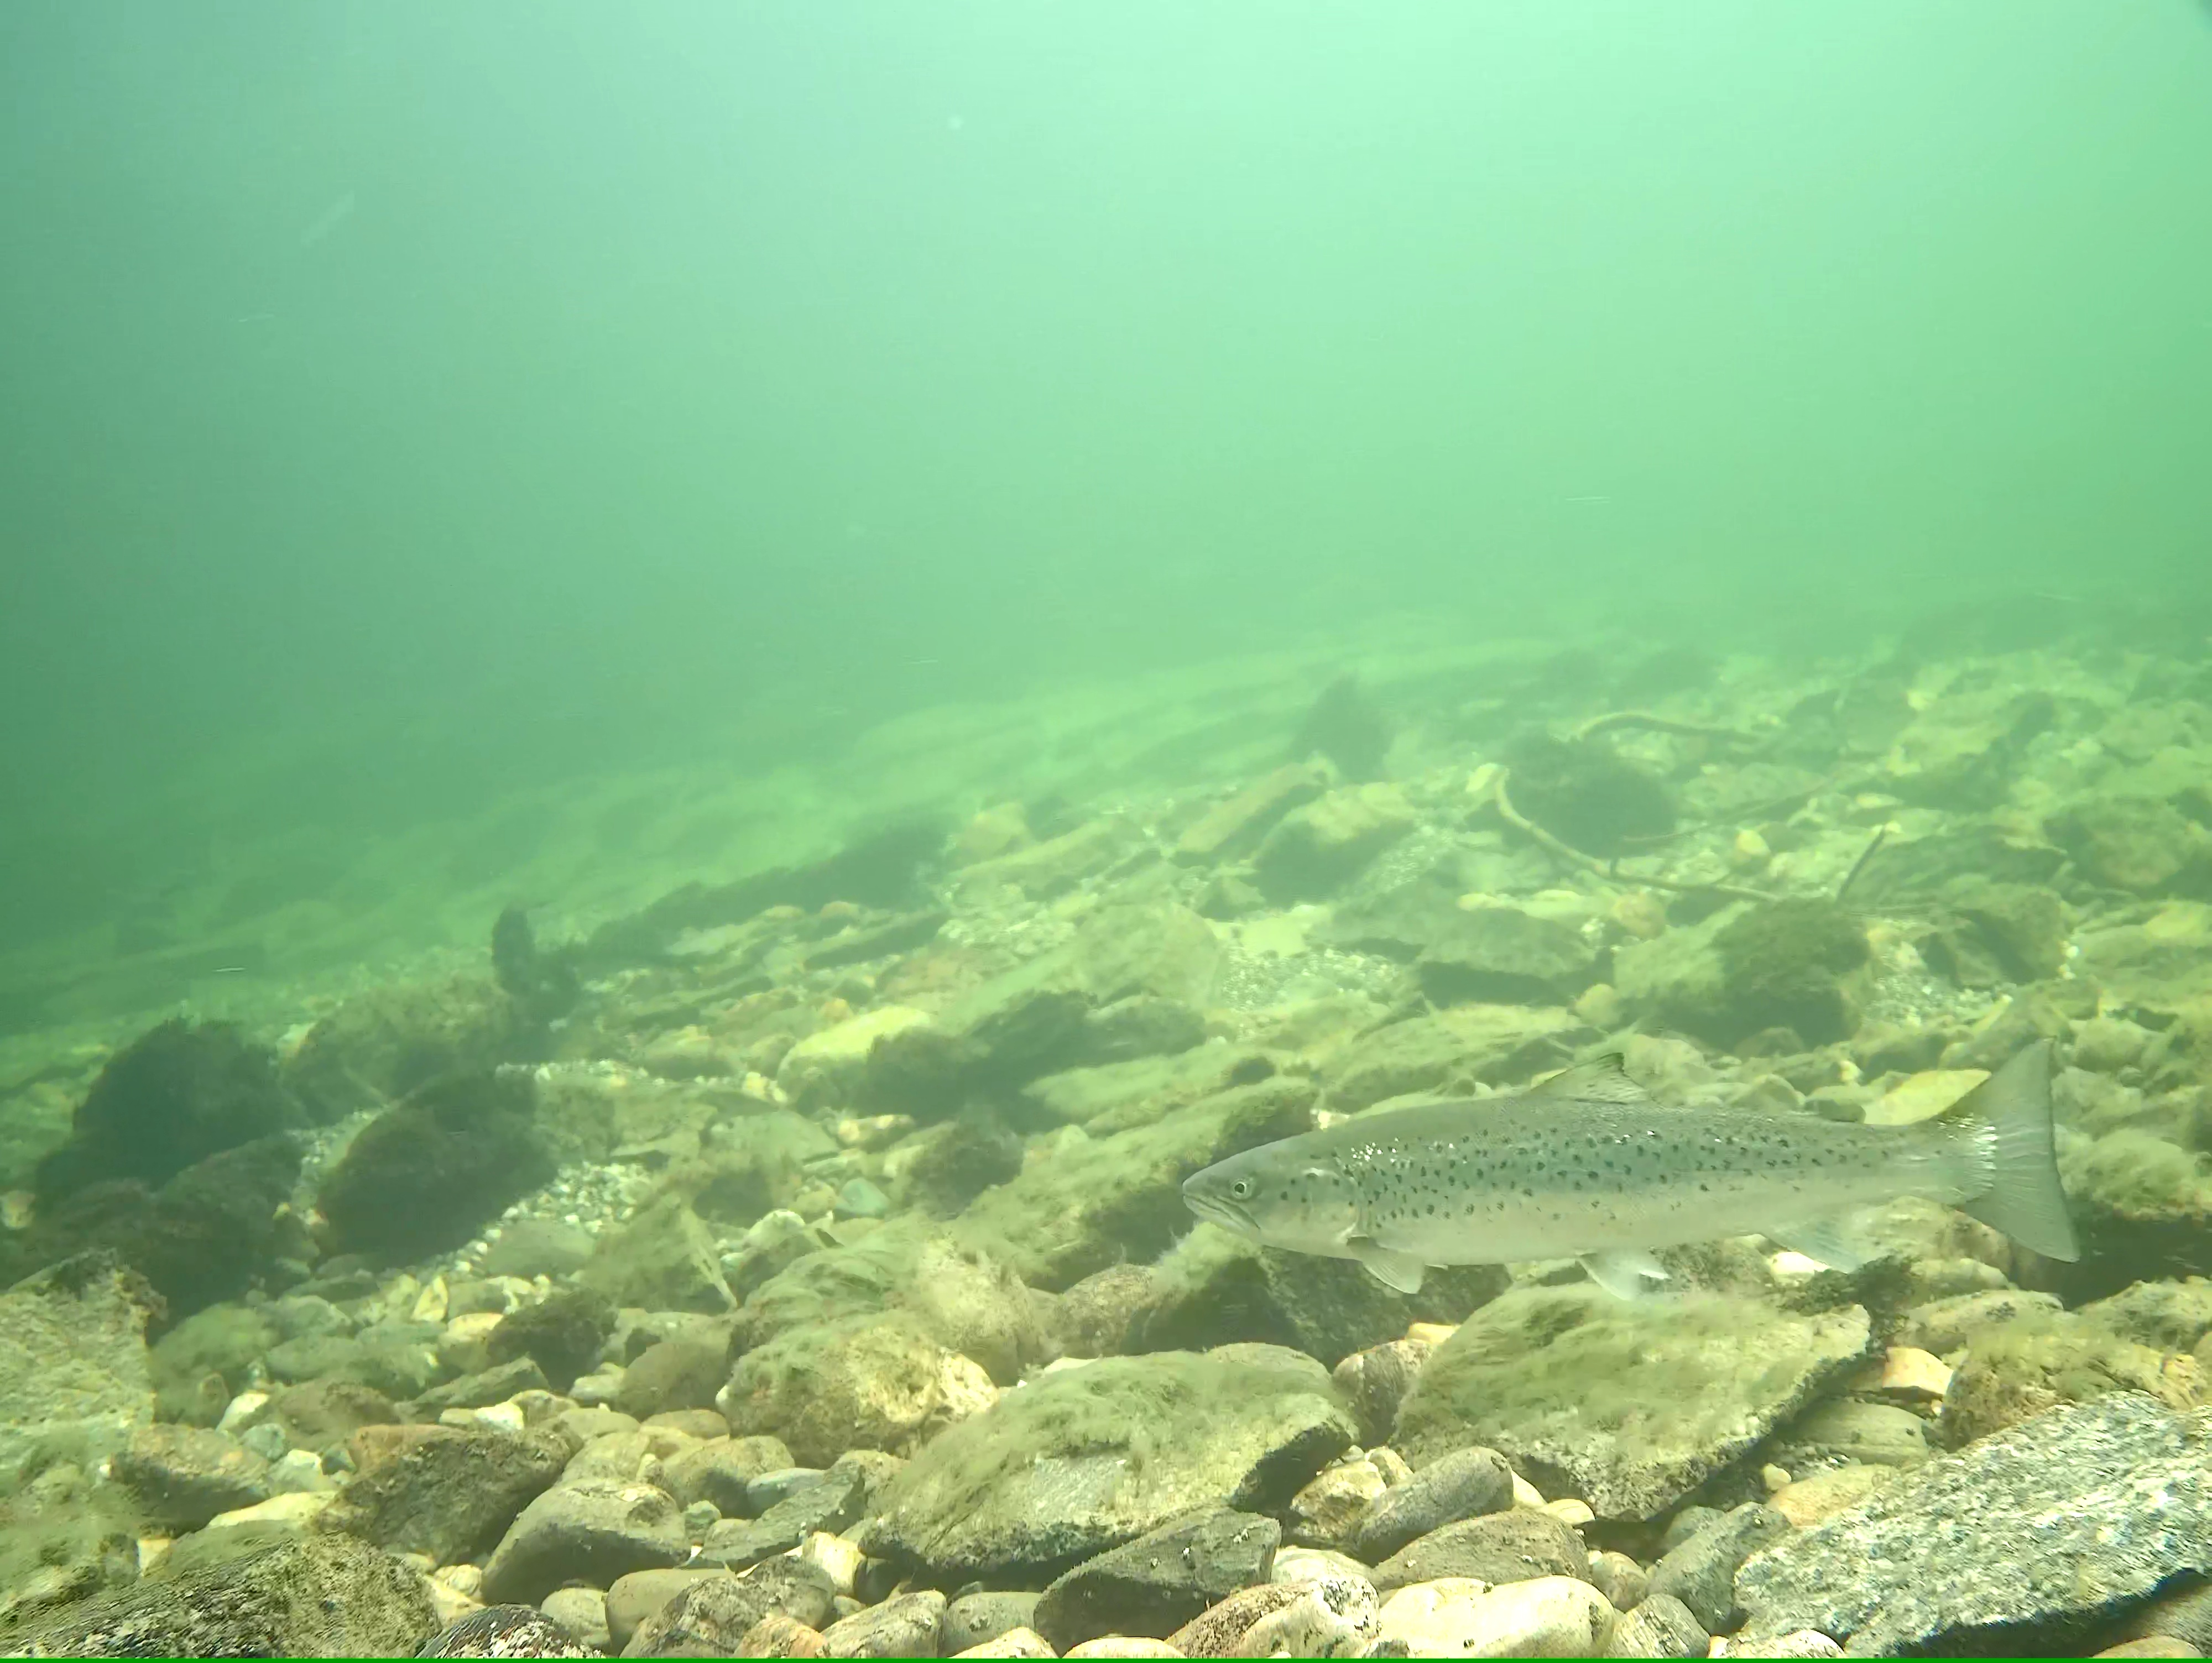salmon: (1178, 1034, 2079, 1303)
